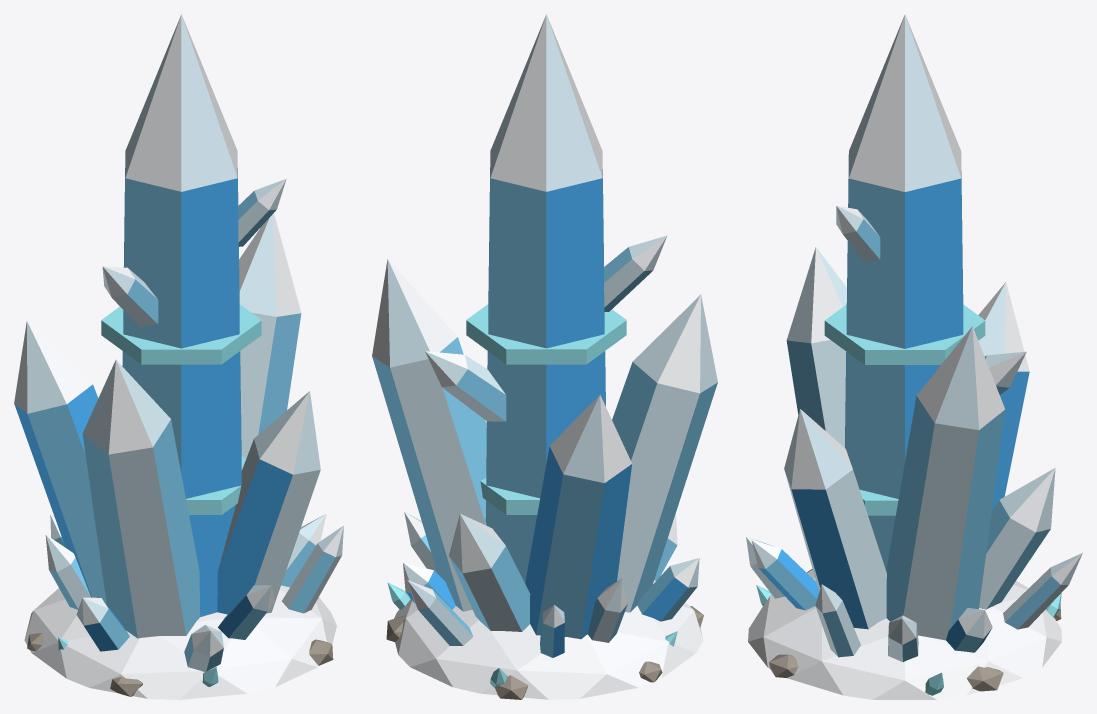
Rendered from ice_spire.glb.
3 views of the same model, side by side, from view 1: azimuth 30°, elevation 25°; view 2: azimuth 150°, elevation 25°; view 3: azimuth 270°, elevation 25° (orthographic).
Parts seen in each view (by area): view 1: Body; view 2: Body; view 3: Body.
Part boxes in pixels (left/top/right/bottom): Body: left=14, top=14, right=343, bottom=699; Body: left=372, top=14, right=717, bottom=699; Body: left=746, top=14, right=1082, bottom=699.
Size of the model in its own units: 1.15 by 2.47 by 1.22.
